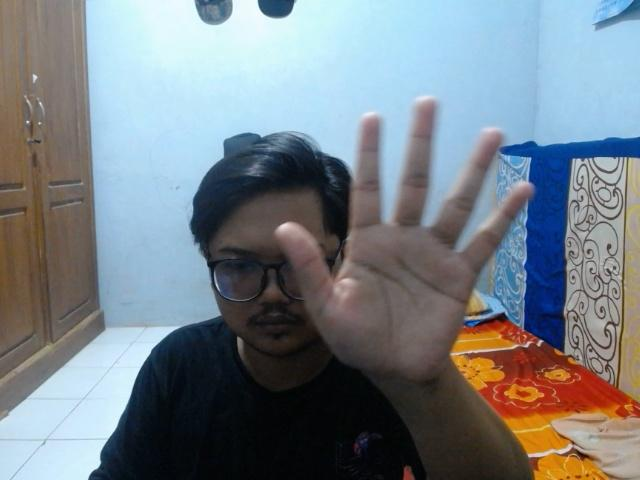Release: (266, 87, 541, 391)
